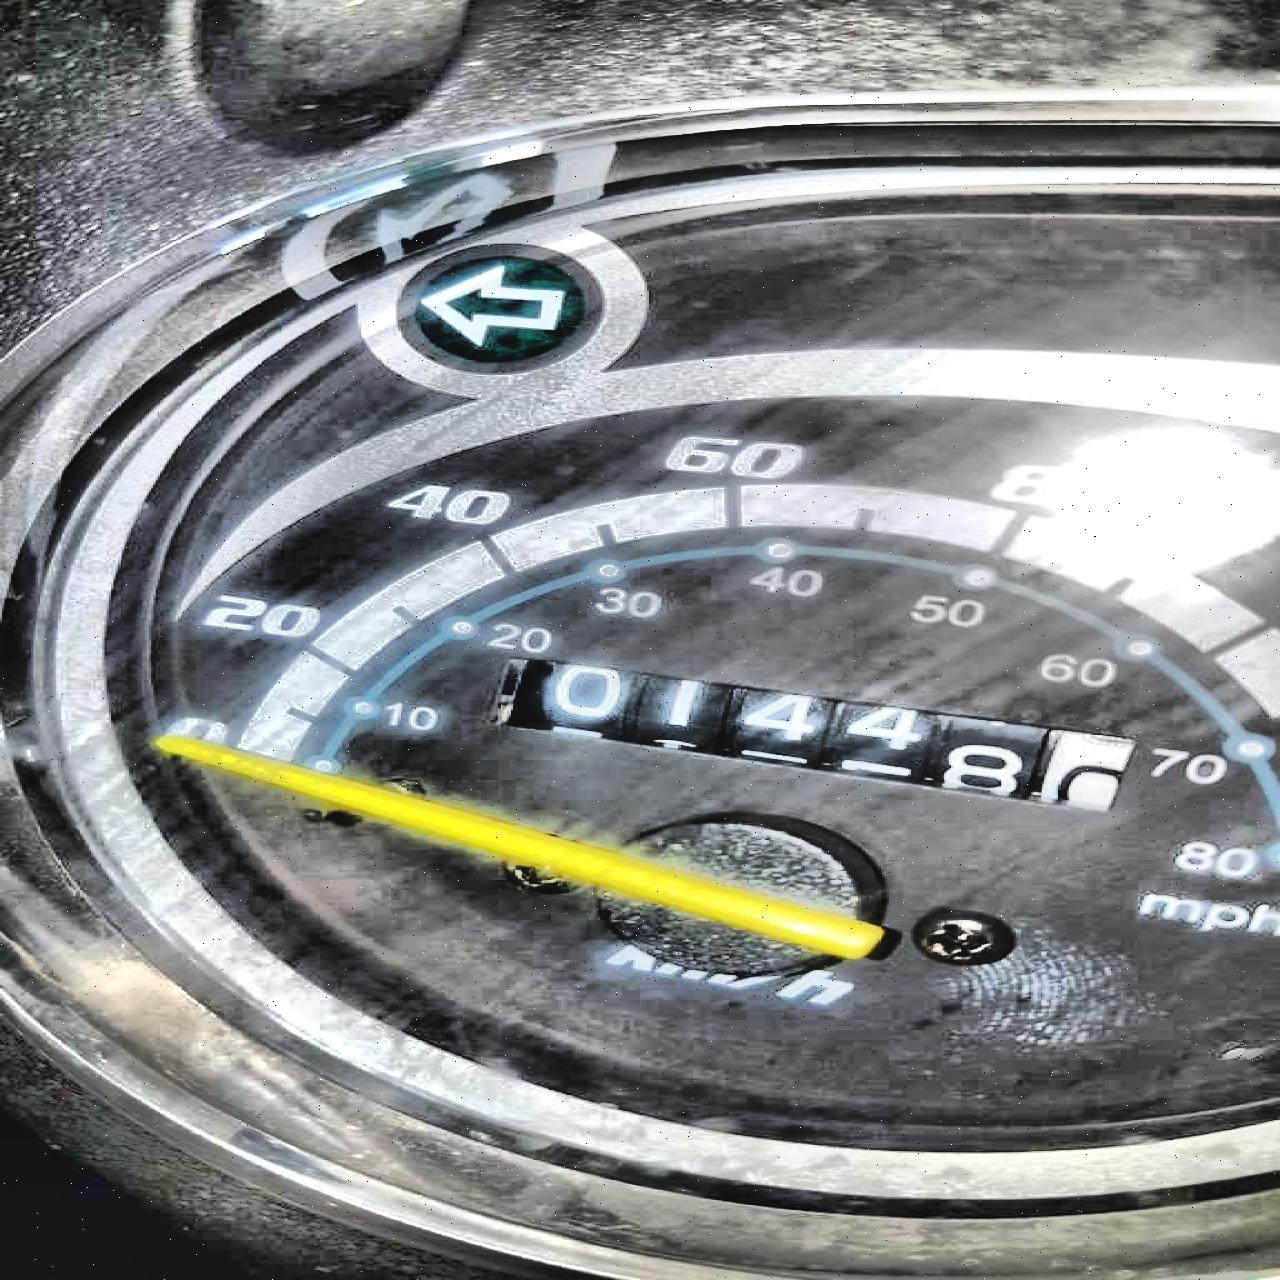0: (545, 662, 626, 719), (1042, 758, 1122, 808), (1076, 655, 1117, 687)
1: (655, 673, 709, 729)
4: (734, 687, 819, 742), (837, 703, 926, 753)
6: (1034, 649, 1074, 682)
8: (933, 740, 1024, 796)
odometer: (476, 647, 1141, 815)
